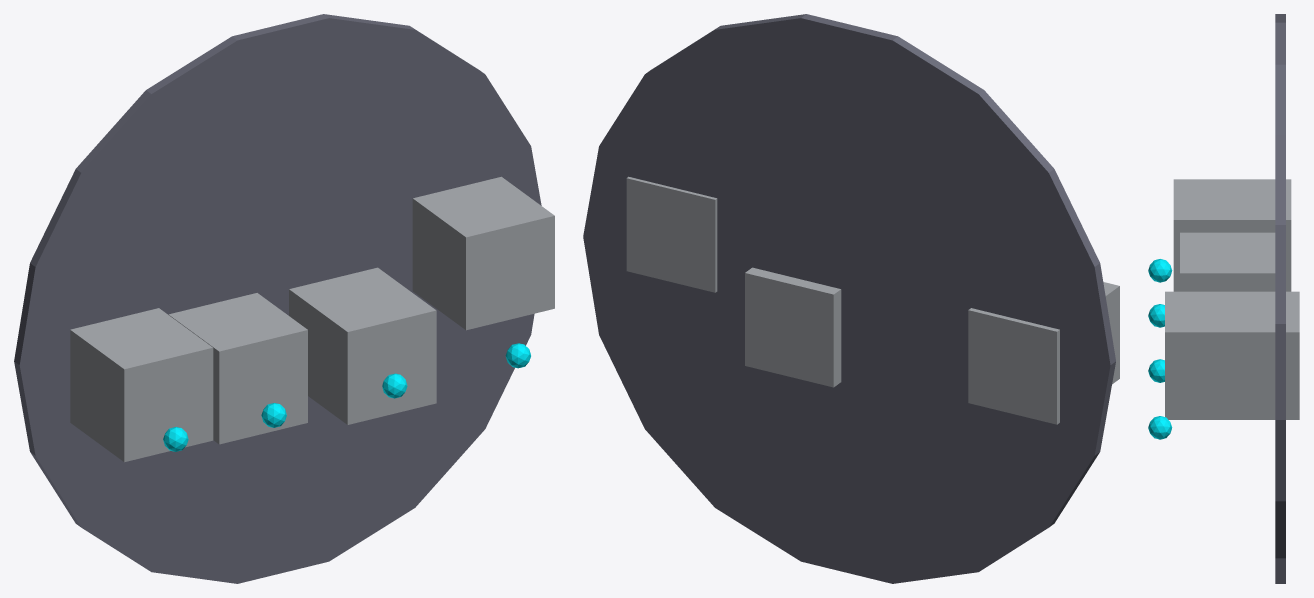
Rendered from 04_event_hazard_cluster.glb.
3 views of the same model, side by side, from view 1: azimuth 30°, elevation 25°; view 2: azimuth 150°, elevation 25°; view 3: azimuth 270°, elevation 25° (orthographic). The views are drawn at different scales.
Visible parts, largest first — view 1: scatter_base, tech_crate_3, tech_crate_0, tech_crate_2, tech_crate_1; view 2: scatter_base, tech_crate_0, tech_crate_2, tech_crate_3; view 3: tech_crate_3, tech_crate_0, scatter_base, tech_crate_1, tech_crate_2, status_light_0, status_light_3, status_light_1, status_light_2.
Boxes of the visible parts, left/top/right/bottom form: scatter_base: left=14, top=14, right=541, bottom=583; tech_crate_3: left=412, top=176, right=554, bottom=330; tech_crate_0: left=70, top=308, right=213, bottom=462; tech_crate_2: left=289, top=267, right=436, bottom=424; tech_crate_1: left=168, top=293, right=307, bottom=444; scatter_base: left=583, top=14, right=1115, bottom=583; tech_crate_0: left=968, top=282, right=1119, bottom=424; tech_crate_2: left=745, top=267, right=841, bottom=387; tech_crate_3: left=626, top=176, right=717, bottom=292; tech_crate_3: left=1175, top=291, right=1289, bottom=419; tech_crate_0: left=1173, top=179, right=1291, bottom=291; scatter_base: left=1275, top=14, right=1285, bottom=583; tech_crate_1: left=1180, top=232, right=1275, bottom=291; tech_crate_2: left=1165, top=291, right=1299, bottom=419; status_light_0: left=1148, top=259, right=1172, bottom=282; status_light_3: left=1148, top=416, right=1172, bottom=439; status_light_1: left=1148, top=304, right=1164, bottom=327; status_light_2: left=1148, top=359, right=1164, bottom=382.
Size of the model in its own units: 1.9 by 1.87 by 0.5036.
